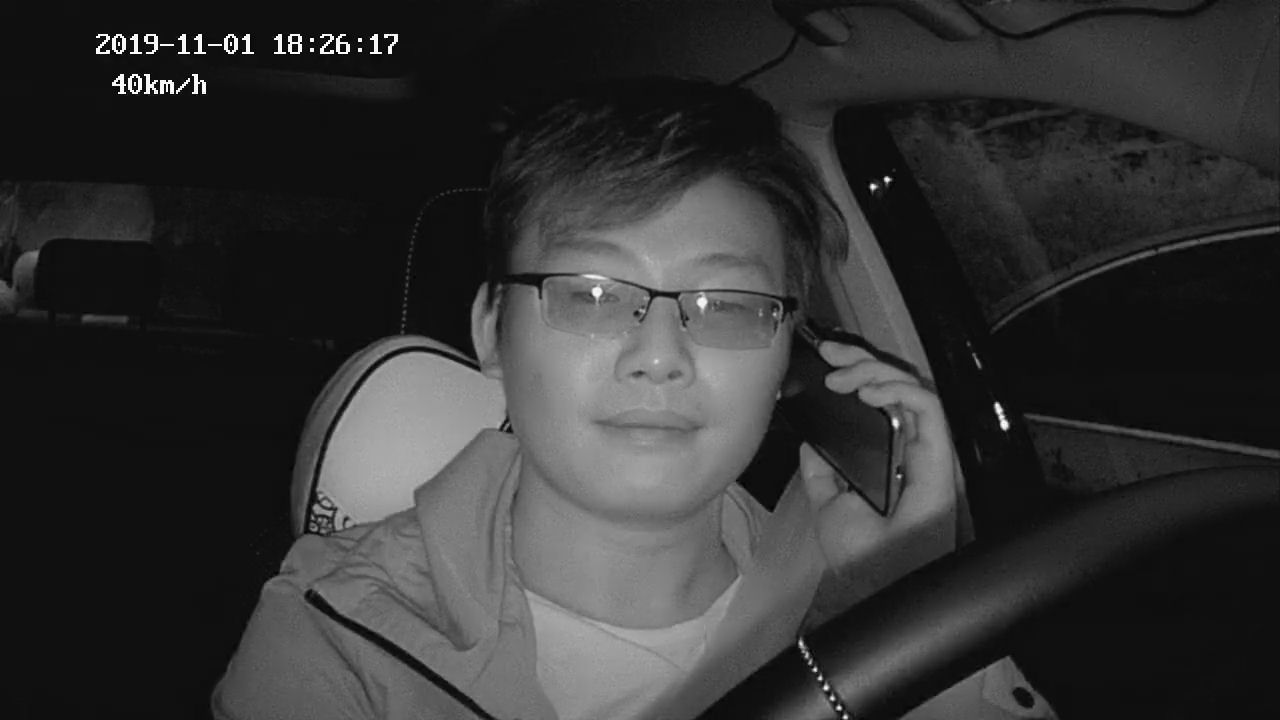call: (497, 189, 817, 509)
